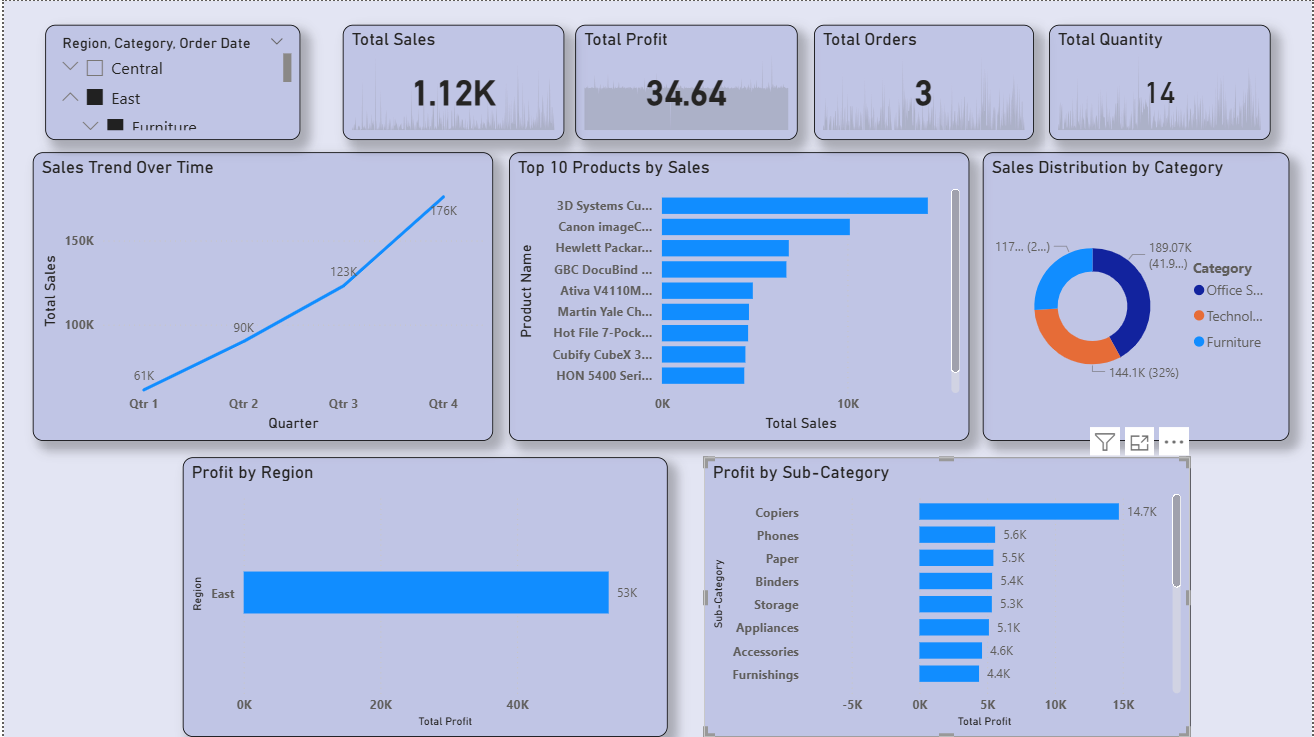

The page's visual inventory and layout, read from the dashboard file:
{"tool":"powerbi","page":{"name":"Page 1","canvas":[1280,720],"ordinal":0},"visuals":[{"type":"kpi","title":"Total Sales","fields":{"Indicator":["Table1.Total Sales"],"TrendLine":["Table1.Order Date"]},"box":[331.4,23.2,216.4,112.5],"z":0},{"type":"kpi","title":"Total Profit","fields":{"Indicator":["Table1.Total Profit"],"TrendLine":["Table1.Order Date"]},"box":[558.8,23.2,217.7,112.5],"z":1000},{"type":"kpi","title":"Total Quantity","fields":{"Indicator":["Table1.Total Quantity"],"TrendLine":["Table1.Order Date"]},"box":[1022.3,23.2,216.4,112.5],"z":2000},{"type":"kpi","title":"Total Orders","fields":{"Indicator":["Table1.Total Orders"],"TrendLine":["Table1.Order Date"]},"box":[792.4,23.2,215.2,112.5],"z":3000},{"type":"lineChart","title":"Sales Trend Over Time","fields":{"Category":["Table1.Order Date.Variation.Date Hierarchy.Year","Table1.Order Date.Variation.Date Hierarchy.Quarter","Table1.Order Date.Variation.Date Hierarchy.Month","Table1.Order Date.Variation.Date Hierarchy.Day"],"Y":["Table1.Total Sales","select"]},"box":[26.9,149.2,450,306.9],"z":4000},{"type":"clusteredBarChart","title":"Top 10 Products by Sales","fields":{"Category":["Table1.Product Name"],"Y":["Table1.Total Sales"]},"box":[494,149.2,450,308.2],"z":5000},{"type":"donutChart","title":"Sales Distribution by Category","fields":{"Category":["Table1.Category"],"Y":["Table1.Total Sales"]},"box":[957.5,148,299.6,308.2],"z":6000},{"type":"slicer","fields":{"Values":["Table1.Region","Table1.Category","Table1.Order Date"]},"box":[40.4,23.2,249.5,112.5],"z":7000},{"type":"barChart","title":"Profit by Region","fields":{"Category":["Table1.Region"],"Y":["Table1.Total Profit"]},"box":[218.9,469.6,474.5,250.7],"z":8000},{"type":"barChart","title":"Sub-Categories by Profit","fields":{"Category":["Table1.Sub-Category"],"Y":["Table1.Total Profit"]},"box":[706.8,469.6,475.7,250.7],"z":9000}]}

Visuals, with their boxes in screenshot pixels (x1, y1, x2, y2), scaled from the page's 1280x720 canvas onto the 1314x737 screenshot:
"Total Sales" kpi: [340, 24, 562, 139]
"Total Profit" kpi: [574, 24, 797, 139]
"Total Quantity" kpi: [1049, 24, 1272, 139]
"Total Orders" kpi: [813, 24, 1034, 139]
"Sales Trend Over Time" lineChart: [28, 153, 490, 467]
"Top 10 Products by Sales" clusteredBarChart: [507, 153, 969, 468]
"Sales Distribution by Category" donutChart: [983, 151, 1290, 467]
slicer - Table1.Region x Table1.Category: [41, 24, 298, 139]
"Profit by Region" barChart: [225, 481, 712, 736]
"Sub-Categories by Profit" barChart: [726, 481, 1214, 736]
